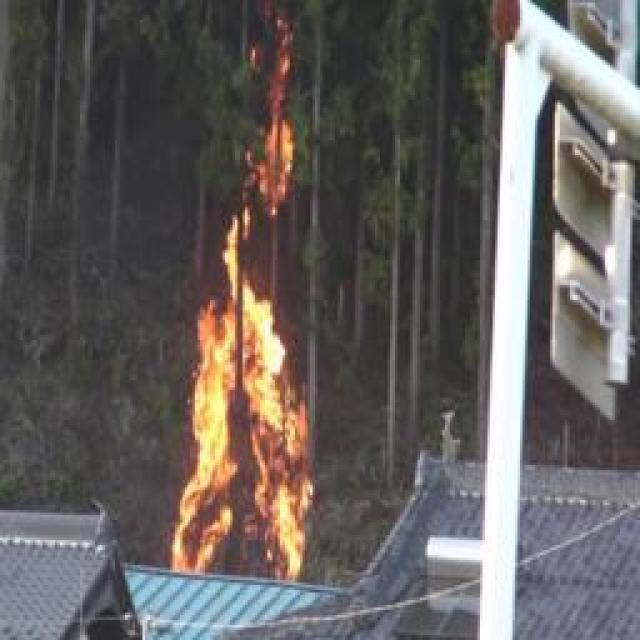Fire: (184, 250, 318, 583)
